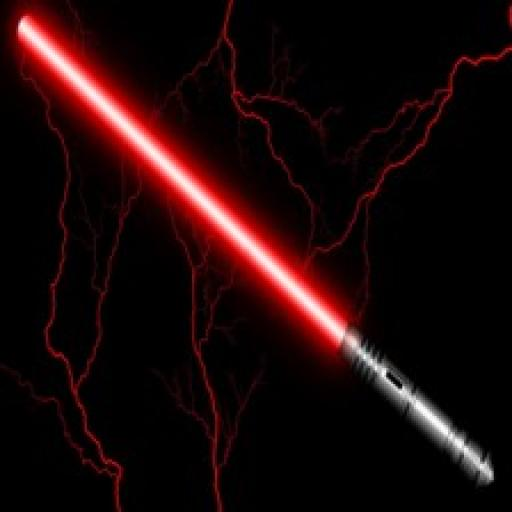sith saber: (18, 16, 494, 484)
